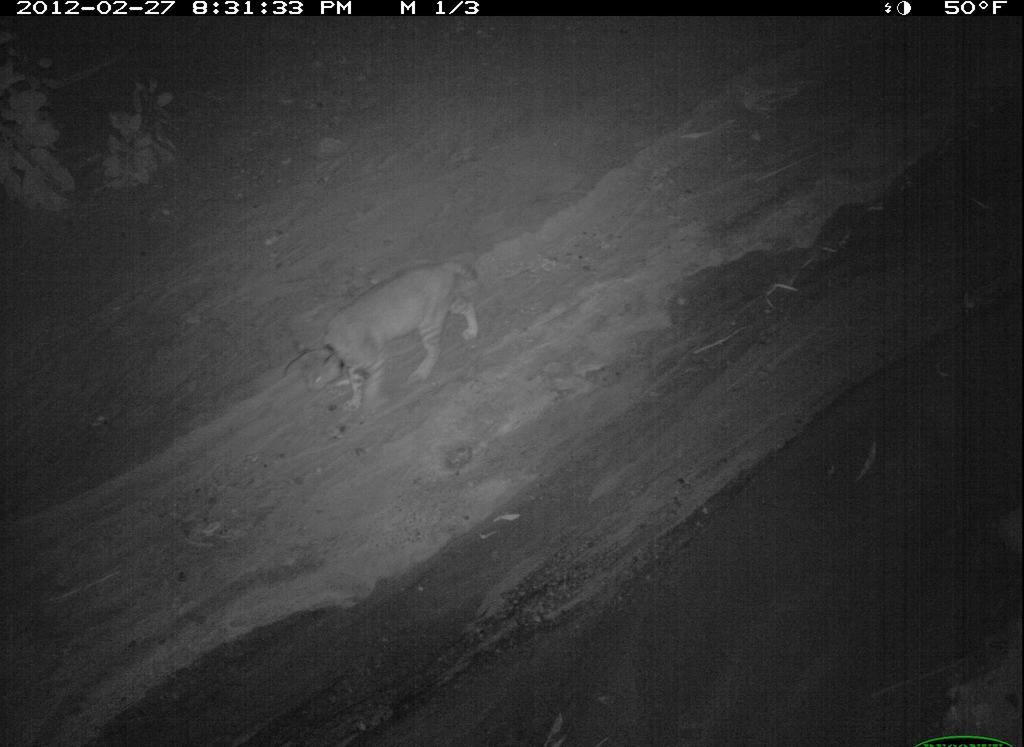bobcat: (575, 505, 970, 747)
